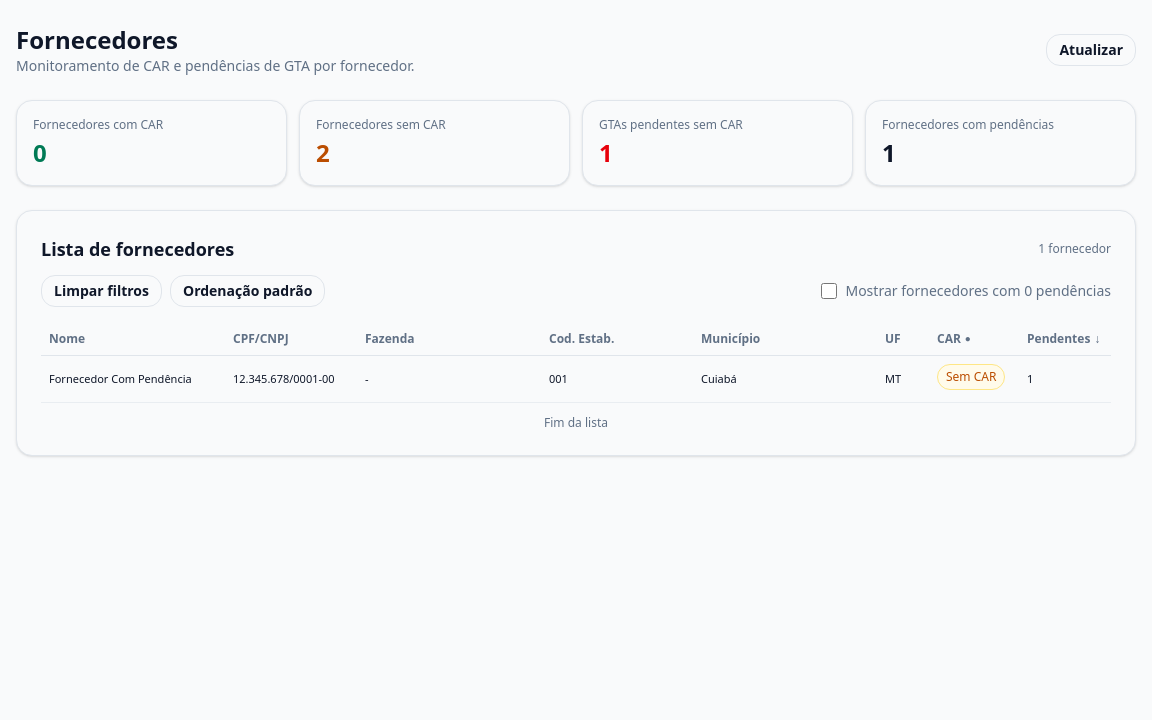
Test: FornecedoresView › keeps zero-pendencias rows in cache and toggles visibility with checkbox
Expected: the row with test id "fornecedor-row-f-1" is shown, [41,356,1111,402]
Expected: the text titled "Fornecedor Com Pendência" is shown, [49,371,192,386]
Click the checkbox with test id "show-zero-pendencias-checkbox". click: (830, 291)
box: [822,283,838,299]
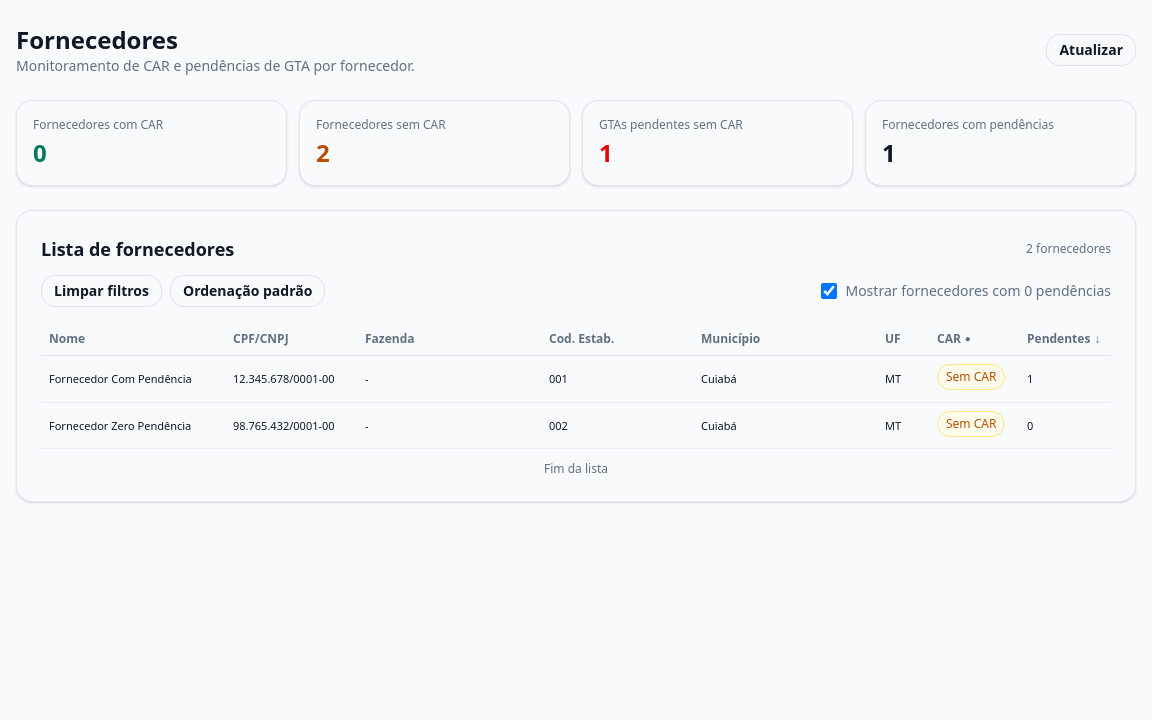
Result: the row with test id "fornecedor-row-f-2" is shown at [41,402,1111,449]
Result: the text titled "Fornecedor Zero Pendência" is shown at [49,418,191,433]
